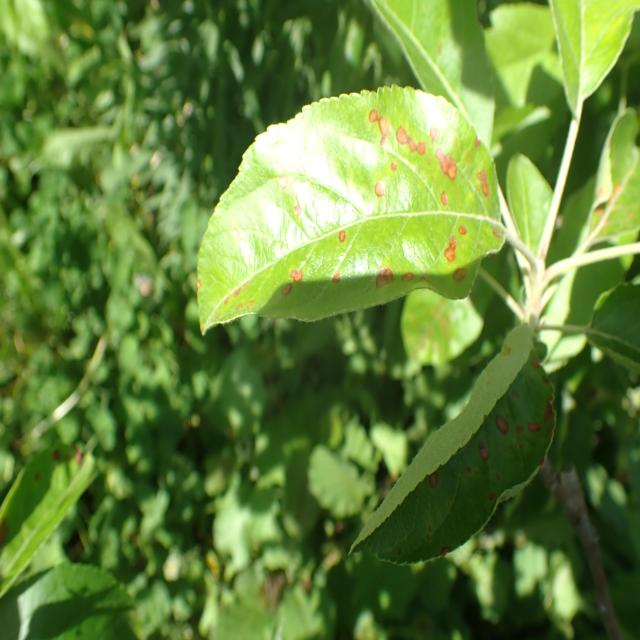Black Rot: (218, 277, 258, 330), (368, 250, 399, 302), (392, 116, 427, 162), (362, 102, 391, 155), (362, 169, 396, 207), (472, 169, 501, 207), (283, 192, 309, 228), (437, 146, 457, 186), (437, 239, 469, 264), (420, 120, 450, 146), (431, 181, 456, 211), (321, 260, 342, 294), (276, 272, 296, 306), (400, 260, 417, 295), (288, 260, 306, 288), (195, 273, 209, 307), (335, 221, 351, 249), (454, 223, 482, 238), (272, 173, 294, 190), (466, 132, 488, 149), (491, 226, 502, 244)
